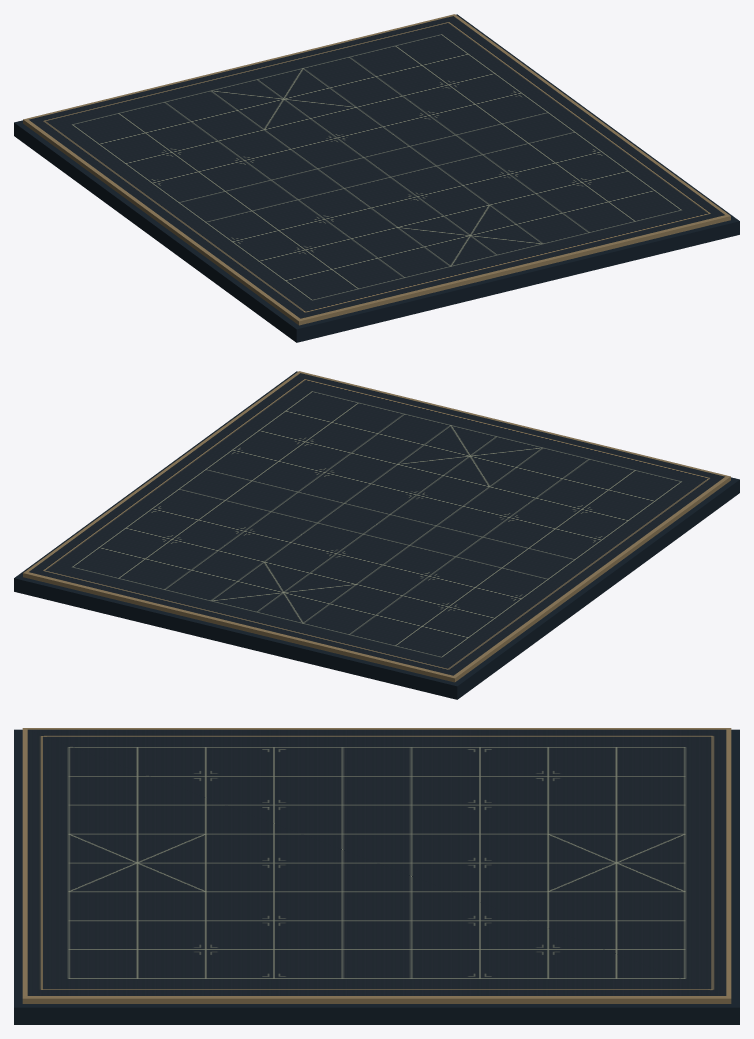
Rendered from Board.glb.
3 renders of one model, top to bottom at view 1: azimuth 30°, elevation 25°; view 2: azimuth 150°, elevation 25°; view 3: azimuth 270°, elevation 25°, orthographic. The views are drawn at different scales.
Visible parts, largest first — view 1: Board; view 2: Board; view 3: Board.
Boxes of the visible parts, left/top/right/bottom form: Board: left=14, top=14, right=739, bottom=342; Board: left=14, top=371, right=739, bottom=699; Board: left=14, top=728, right=739, bottom=1024.
Bounding box in the file's own units: 9.6 × 0.372 × 10.6.
Materials: 3 (1 with a texture image).
